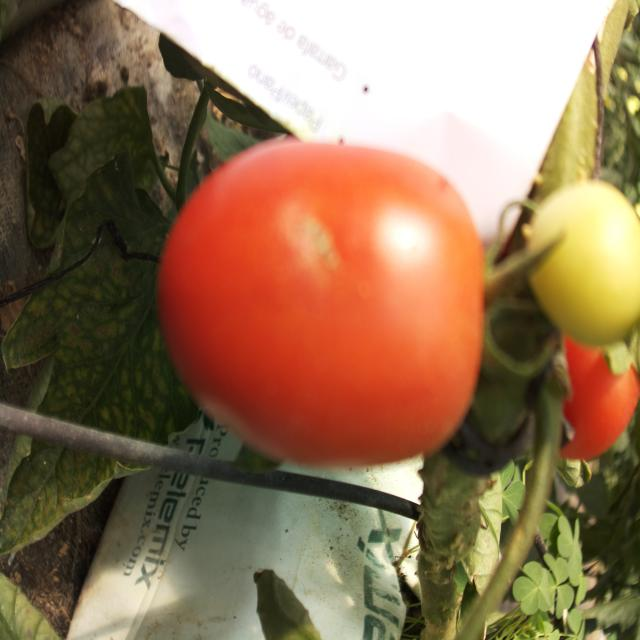kirmizi: (148, 124, 501, 505)
